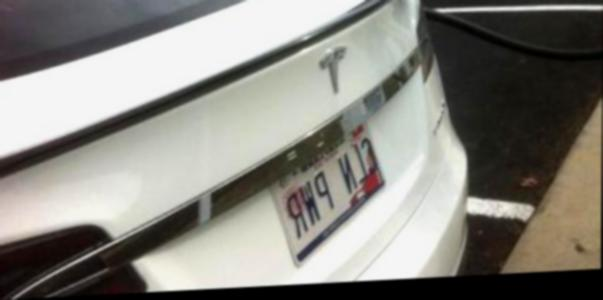License_Plate: (271, 139, 382, 277)
